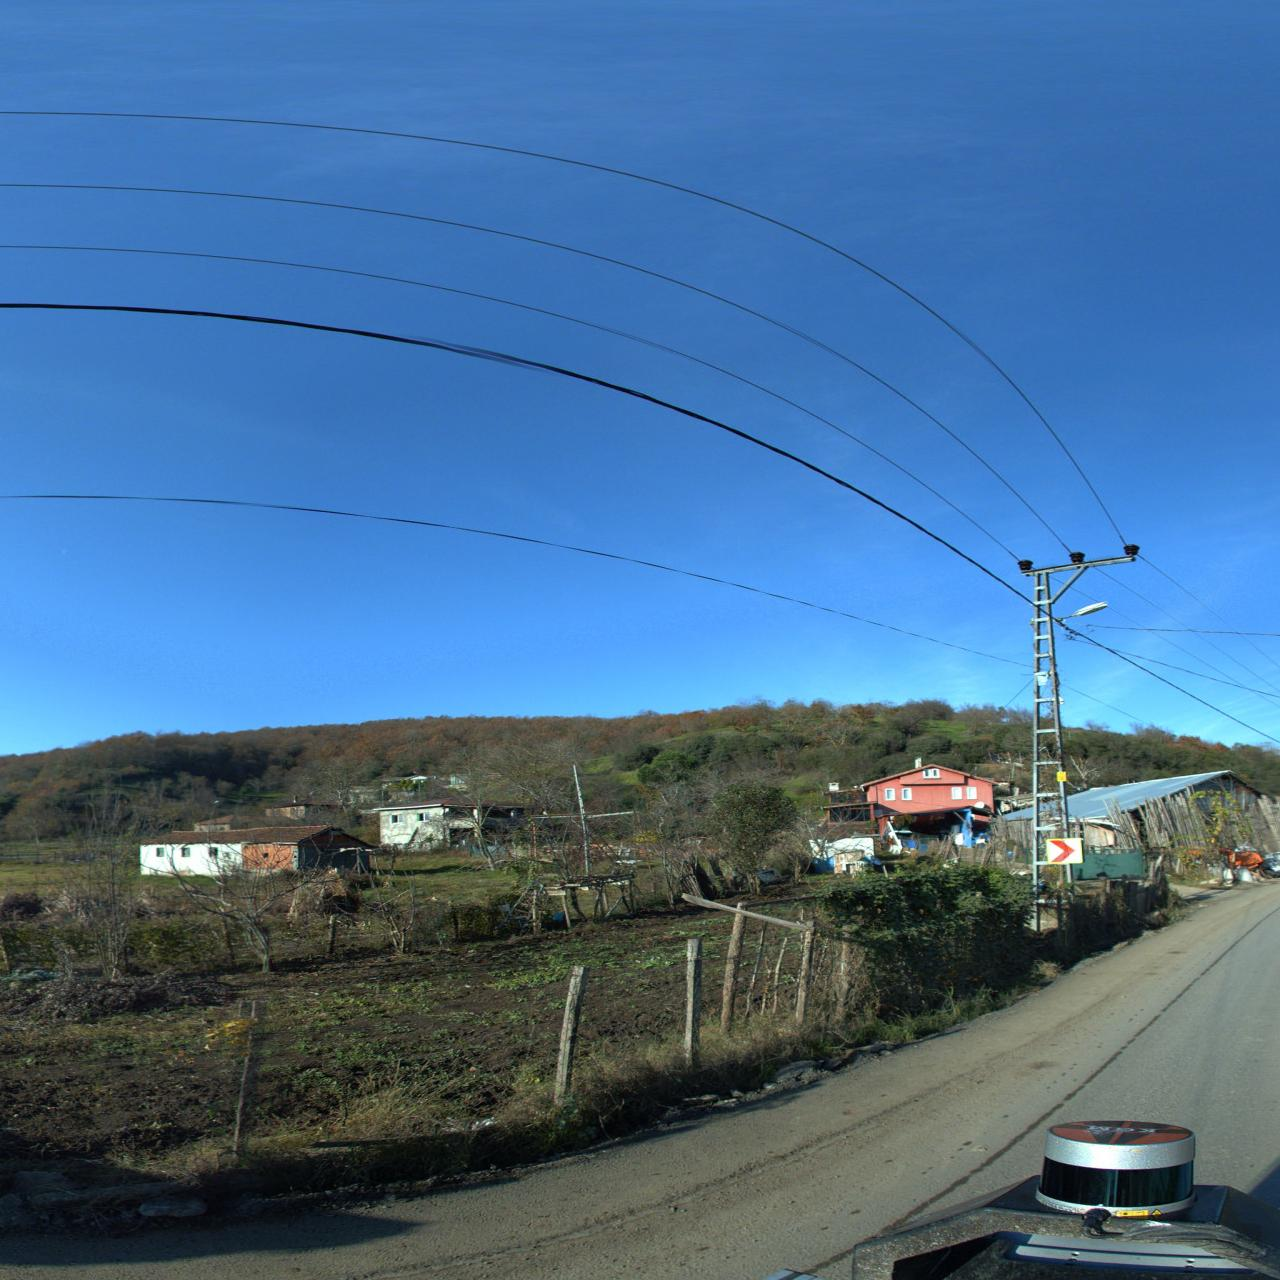Utility Pole Information Plate: (1054, 770, 1071, 784)
